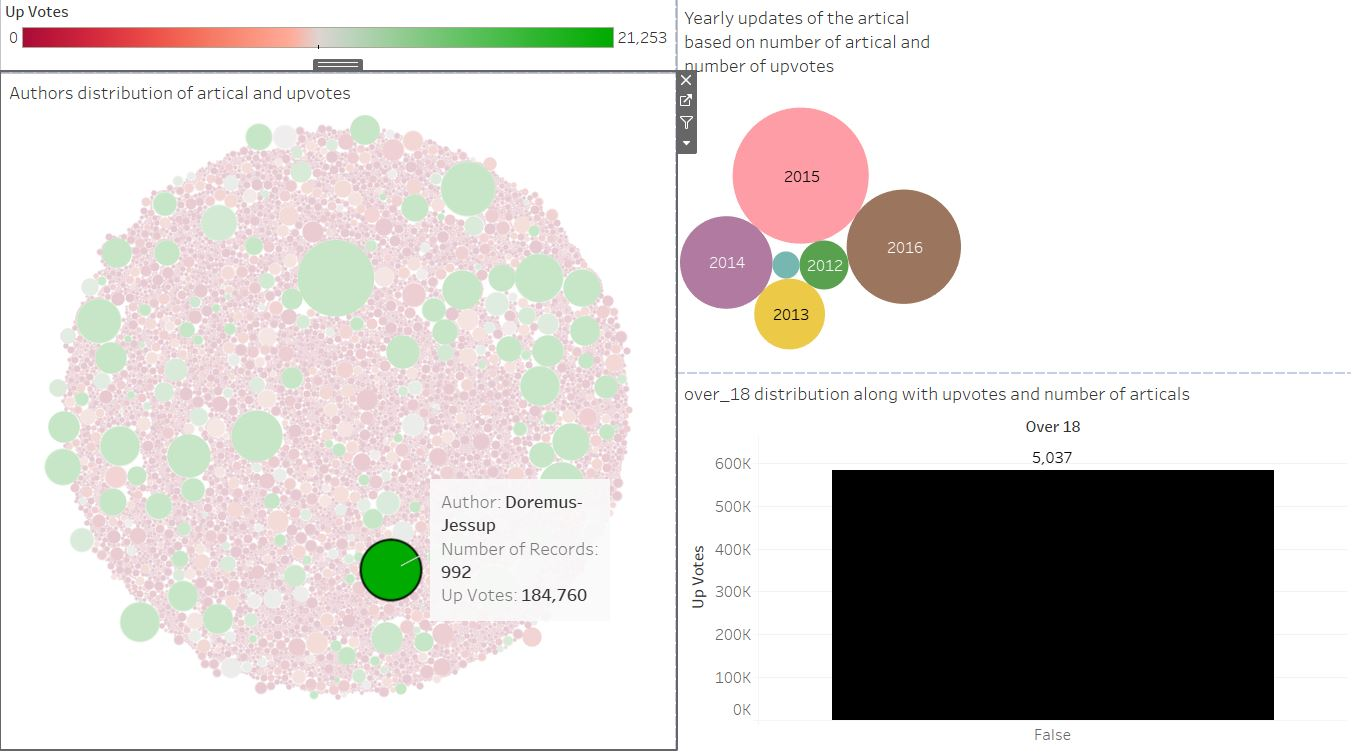

What the dashboard file says about the page in this screenshot:
{"tool":"tableau","page":{"name":"Dashboard 1","canvas":[1366,768],"ordinal":0},"visuals":[{"type":"legend","title":"Sheet 1","param":"[federated.1ng5zmb0twoplm18mtbw31p7slgy].[sum:up_votes:qk]","box":[8,8,675,75]},{"type":"worksheet","title":"Sheet 2","mark":"Circle","box":[683,8,675,376]},{"type":"worksheet","title":"Sheet 1","mark":"Circle","box":[8,83,675,677]},{"type":"worksheet","title":"Sheet 3","mark":"Bar","rows":["up_votes"],"cols":["over_18"],"box":[683,384,675,376]}]}

Visuals, with their boxes on the page's 1366x768 design canvas (x1, y1, x2, y2). These are canvas units, not pixel positions in the 1352x756 screenshot, which may show the page scaled, cropped or inside an application window:
"Sheet 1" legend: bbox(8, 8, 683, 83)
"Sheet 2" worksheet (Circle marks): bbox(683, 8, 1358, 384)
"Sheet 1" worksheet (Circle marks): bbox(8, 83, 683, 760)
"Sheet 3" worksheet (Bar marks): bbox(683, 384, 1358, 760)
